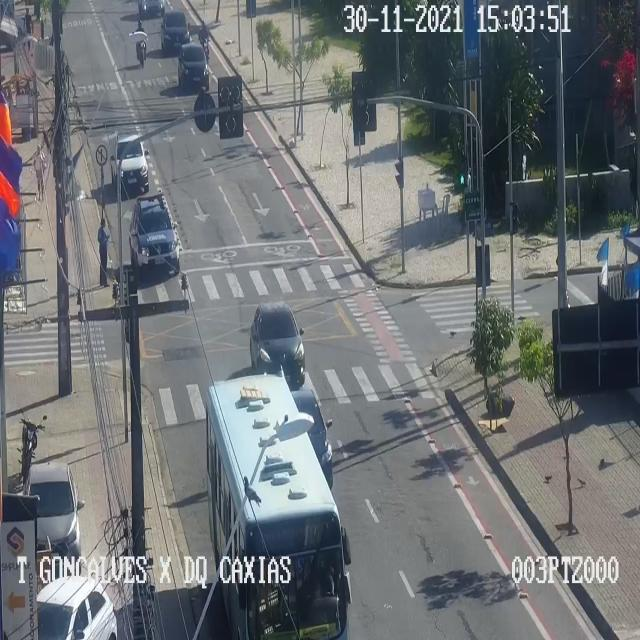Bus: (206, 373, 349, 639)
Car: (283, 378, 342, 491), (26, 464, 80, 572), (37, 576, 117, 639), (250, 302, 304, 381), (129, 196, 179, 268), (110, 134, 148, 186), (178, 43, 208, 85), (161, 10, 189, 50), (136, 0, 166, 20)
Motorcycle: (21, 419, 37, 481), (136, 19, 146, 66), (200, 20, 210, 61)
